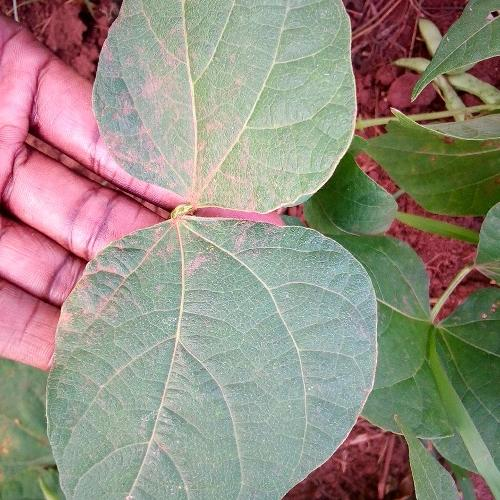hawar: (107, 54, 266, 202), (62, 258, 130, 356), (159, 234, 230, 290)
